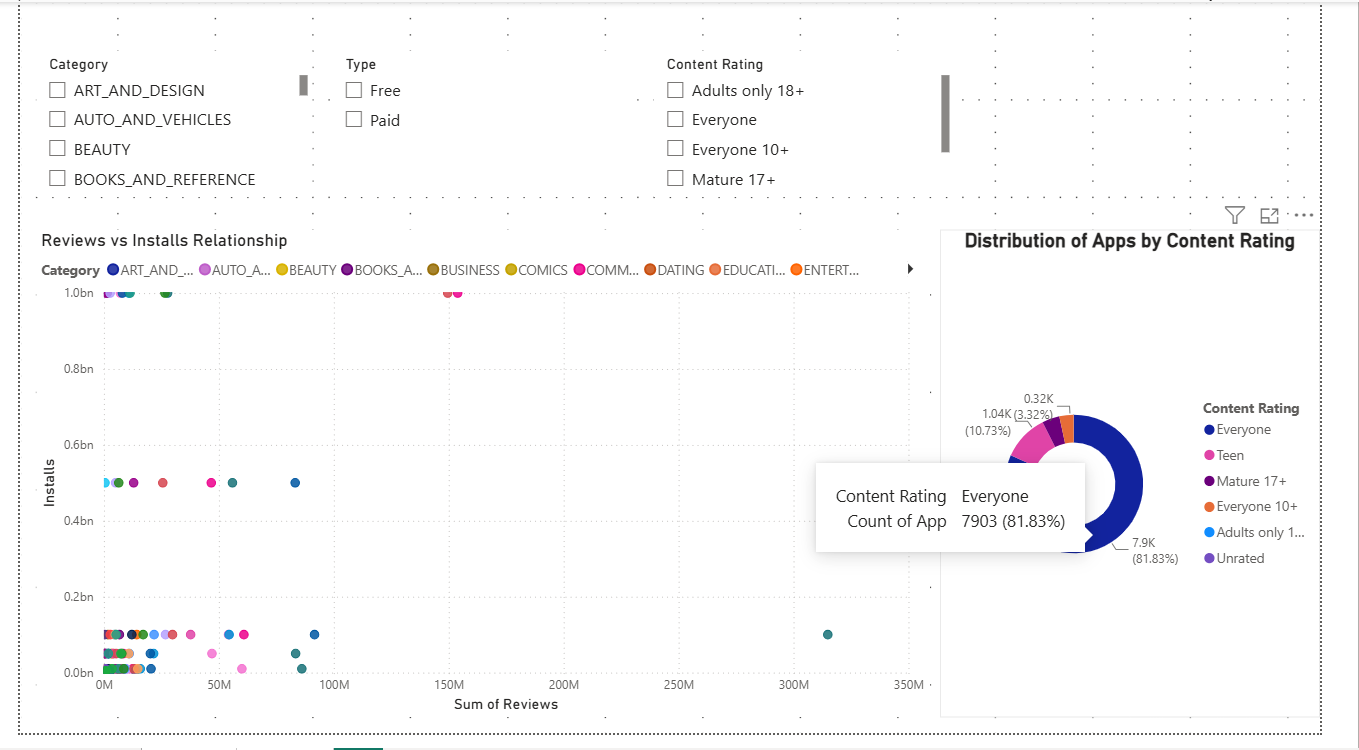

The dashboard page shown, as its layout file describes it:
{"tool":"powerbi","page":{"name":"Page 2","canvas":[1280,720],"ordinal":1},"visuals":[{"type":"slicer","fields":{"Values":["Sheet1.Category"]},"box":[16,48,272,144],"z":0},{"type":"slicer","fields":{"Values":["Sheet1.Type"]},"box":[308,48,296,144],"z":1},{"type":"slicer","fields":{"Values":["Sheet1.Content Rating"]},"box":[624,48,296,144],"z":2},{"type":"scatterChart","title":"Reviews vs Installs Relationship","fields":{"X":["Sum(Sheet1.Reviews)"],"Series":["Sheet1.Category"],"Y":["Sheet1.Installs"]},"box":[16,224,880,480],"z":3},{"type":"donutChart","title":"Distribution of Apps by Content Rating","fields":{"Category":["Sheet1.Content Rating"],"Y":["CountNonNull(Sheet1.App)"]},"box":[906,224,374,480],"z":4}]}

Visuals, with their boxes in screenshot pixels (x1, y1, x2, y2), scaled from the page's 1280x720 canvas onto the 1359x750 screenshot:
slicer - Sheet1.Category: (17, 50, 306, 200)
slicer - Sheet1.Type: (327, 50, 641, 200)
slicer - Sheet1.Content Rating: (663, 50, 977, 200)
"Reviews vs Installs Relationship" scatterChart: (17, 233, 951, 733)
"Distribution of Apps by Content Rating" donutChart: (962, 233, 1358, 733)
